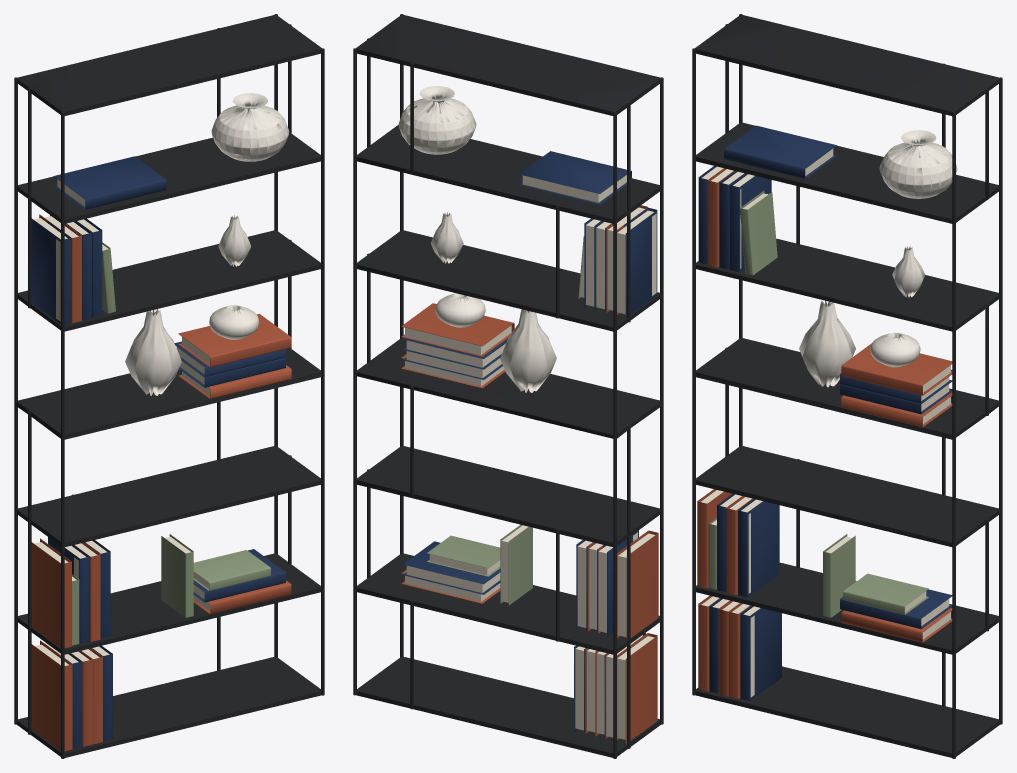
File: metal-bookshelf.glb
3 renders of one model, left to right at view 1: azimuth 30°, elevation 25°; view 2: azimuth 150°, elevation 25°; view 3: azimuth 330°, elevation 25°, orthographic.
Parts seen in each view (by area): view 1: metal, book_terracotta, book_navy, ceramic, book_sage, pages; view 2: metal, pages, book_terracotta, book_navy, ceramic, book_sage; view 3: metal, book_navy, book_terracotta, ceramic, book_sage, pages.
Boxes of the visible parts, x1,y1,x2,y2 form: metal: (14,14,324,758); book_terracotta: (31,215,291,751); book_navy: (31,156,285,748); ceramic: (125,93,289,395); book_sage: (72,242,270,645); pages: (34,179,210,665); metal: (353,14,663,758); pages: (405,175,656,739); book_terracotta: (401,205,658,743); book_navy: (403,151,657,738); ceramic: (398,86,556,392); book_sage: (427,236,584,605); metal: (692,14,1002,758); book_navy: (698,125,952,700); book_terracotta: (697,168,952,698); ceramic: (799,130,957,387); book_sage: (708,191,928,617); pages: (701,148,950,697).
Size of the model in its own units: 0.8098 by 1.9 by 0.2601.
